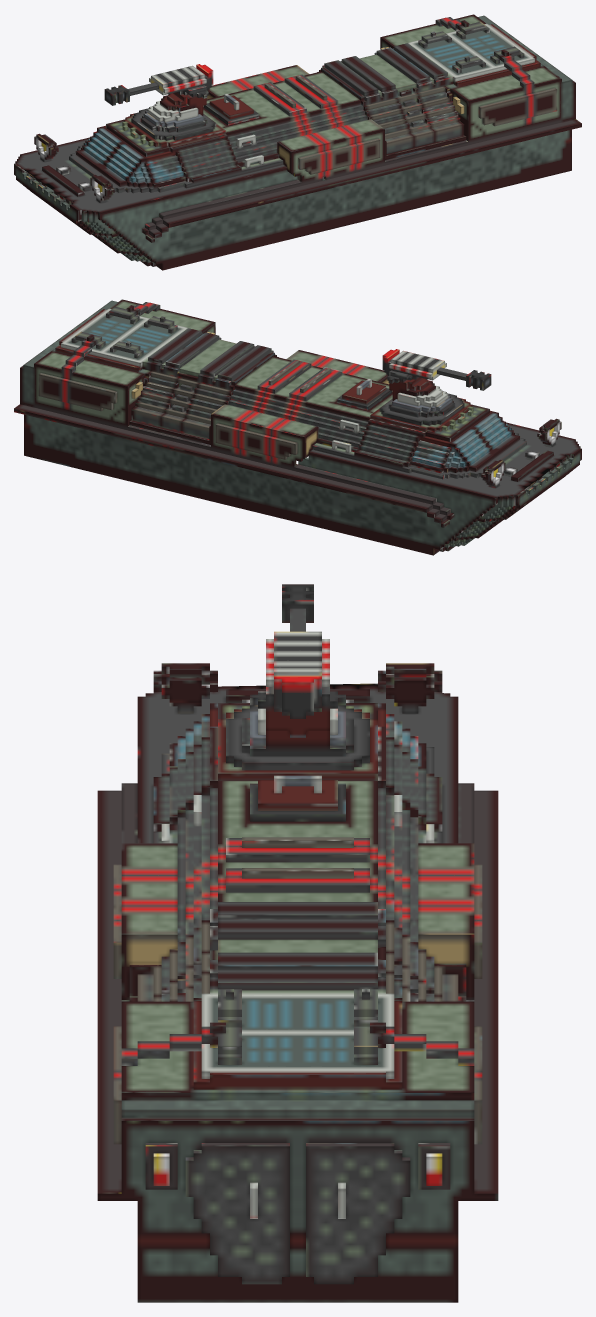
File: BTR.fbx
3 renders of one model, top to bottom at view 1: azimuth 30°, elevation 25°; view 2: azimuth 150°, elevation 25°; view 3: azimuth 270°, elevation 25°, orthographic. The views are drawn at different scales.
Visible parts, largest first — view 1: Untitled; view 2: Untitled; view 3: Untitled.
Boxes of the visible parts, box(x1,y1,x2,y2) form: Untitled: box(14, 14, 581, 270); Untitled: box(14, 299, 581, 555); Untitled: box(97, 584, 498, 1302).
Bounding box in the file's own units: 1430 × 420 × 500.
Materials: 1 (1 with a texture image).
